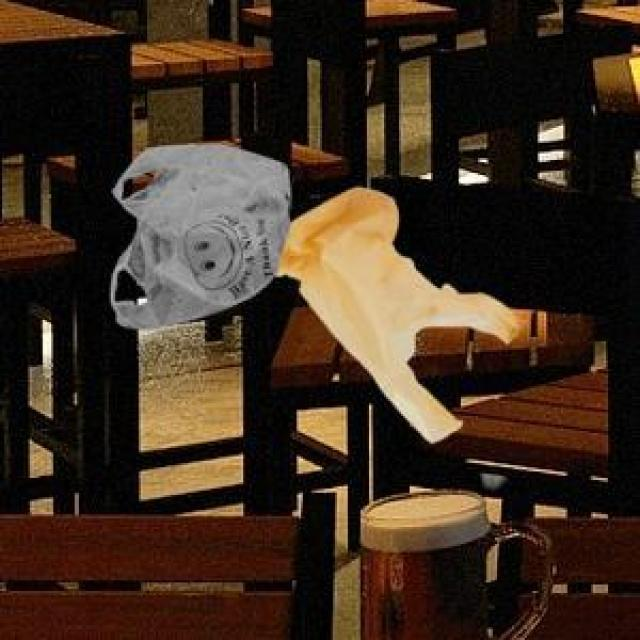waste: (111, 144, 518, 442)
